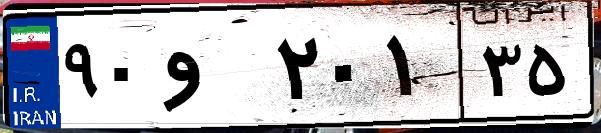0: (330, 28, 385, 110), (110, 28, 158, 98)
1: (385, 28, 445, 110)
2: (270, 28, 330, 110)
3: (475, 38, 525, 113)
5: (525, 38, 570, 115)
9: (57, 26, 110, 100)
و: (158, 20, 270, 120)
